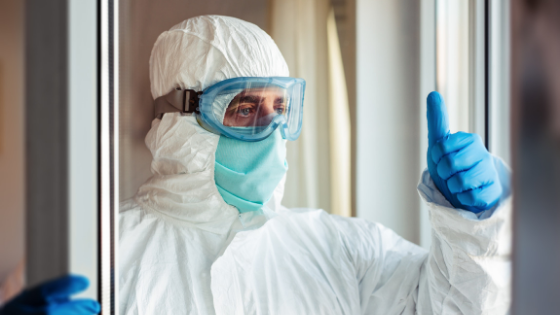Coverall: (119, 33, 414, 315)
Gloves: (418, 92, 514, 222)
Goggles: (186, 74, 312, 142)
with_mask: (206, 80, 302, 212)
